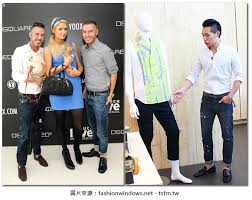F_shirt: (186, 42, 245, 96)
